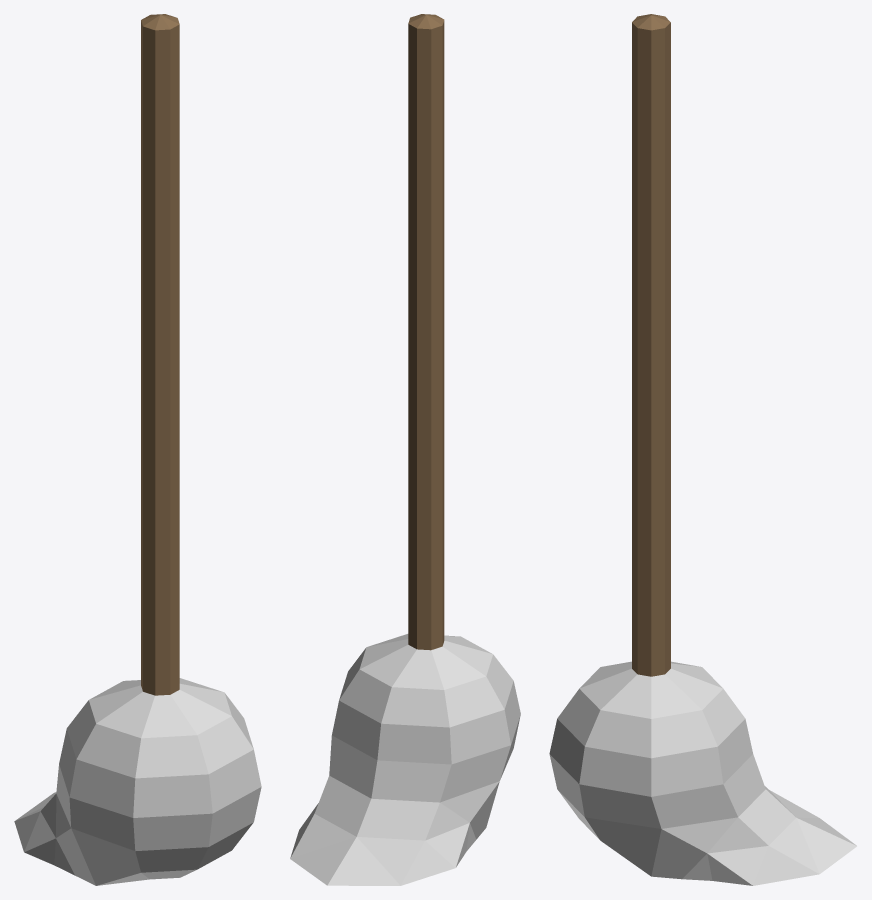
Rendered from Mop.fbx.
The picture shows the model from 3 angles, left to right: view 1: azimuth 30°, elevation 25°; view 2: azimuth 150°, elevation 25°; view 3: azimuth 270°, elevation 25°; orthographic projection. The views are drawn at different scales.
Visible parts, largest first — view 1: Sphere; view 2: Sphere; view 3: Sphere.
Part boxes in pixels (<box>): Sphere: <box>14,14,261,885</box>; Sphere: <box>290,14,520,885</box>; Sphere: <box>549,14,856,885</box>.
Size of the model in its own units: 100 by 450 by 151.
